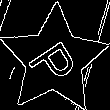P_NE: (24, 30, 84, 89)
